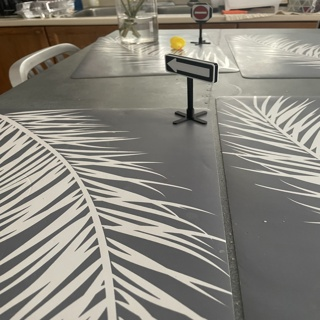sign_noentry: (192, 2, 209, 18)
sign_oneway_left: (161, 63, 217, 79)
